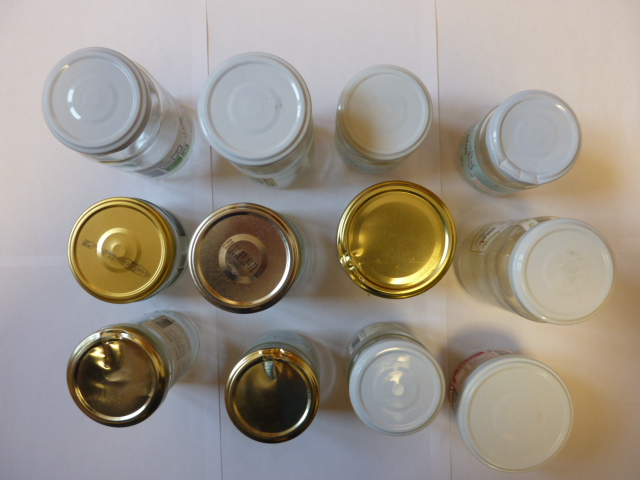damaged: (65, 327, 167, 428), (222, 348, 321, 446), (489, 87, 583, 187)
intact: (458, 357, 574, 472), (187, 202, 300, 312), (66, 197, 175, 302), (347, 338, 446, 436), (336, 64, 435, 160)
